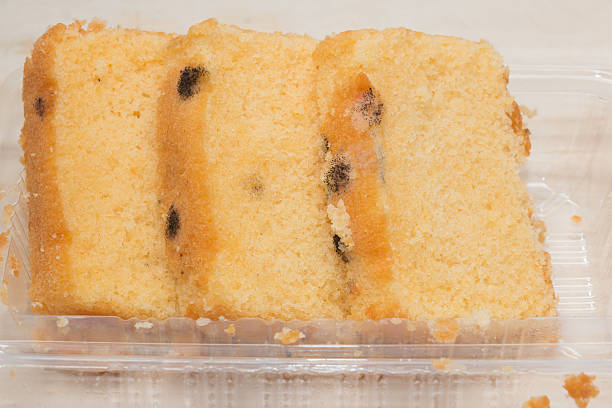mold_bread: (307, 133, 354, 196), (317, 220, 360, 269), (349, 78, 390, 127), (173, 56, 213, 101), (153, 198, 189, 248), (243, 173, 267, 202), (31, 89, 54, 119)
